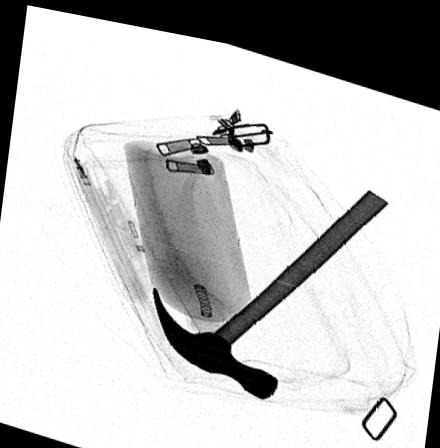Hammer: (151, 173, 388, 389)
